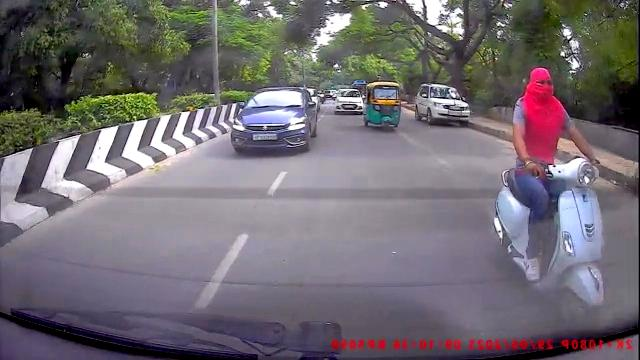motorcycle_without_helmet: (493, 65, 610, 324)
